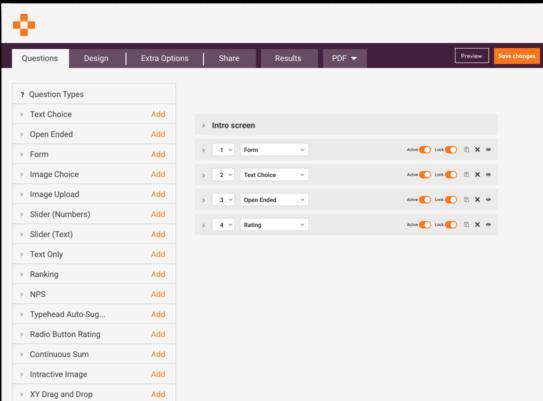button: (127, 49, 204, 69), (14, 50, 70, 69), (205, 49, 256, 69), (69, 51, 127, 68), (263, 51, 320, 68), (494, 48, 541, 65), (457, 49, 490, 64)
dropdown: (241, 194, 309, 207), (242, 144, 309, 157), (324, 50, 367, 69), (241, 219, 308, 231), (243, 169, 309, 181), (214, 144, 236, 157), (213, 194, 236, 206), (214, 169, 236, 181), (213, 219, 235, 231)
icon: (463, 171, 472, 181), (464, 147, 472, 155), (475, 171, 483, 179), (475, 146, 482, 155), (486, 170, 493, 179), (486, 147, 494, 154), (475, 196, 482, 204), (20, 331, 27, 339), (21, 92, 27, 101), (475, 222, 482, 229), (20, 152, 27, 159), (464, 221, 470, 229), (19, 311, 25, 319), (487, 197, 493, 204), (202, 123, 208, 130), (20, 112, 26, 119), (20, 172, 26, 179), (20, 232, 26, 239), (20, 132, 26, 138), (486, 223, 493, 228), (21, 212, 26, 219), (21, 352, 26, 359), (203, 198, 207, 206), (204, 223, 208, 231), (464, 198, 470, 203), (201, 174, 207, 179), (21, 273, 26, 279), (21, 292, 26, 298), (21, 392, 26, 398), (203, 148, 207, 155), (21, 373, 26, 378), (22, 193, 26, 198), (21, 253, 25, 258)
label: (31, 309, 108, 322), (29, 331, 106, 343), (28, 209, 92, 222), (28, 189, 83, 203), (211, 119, 264, 133), (26, 351, 91, 362), (29, 372, 91, 383), (30, 169, 81, 182), (30, 391, 94, 401), (29, 91, 87, 101), (28, 269, 66, 283), (30, 131, 76, 142), (31, 109, 73, 121), (29, 249, 66, 262), (29, 232, 76, 241), (28, 149, 51, 160), (29, 289, 50, 301), (406, 221, 419, 228), (408, 147, 420, 154), (406, 171, 420, 177), (405, 198, 419, 204), (434, 223, 446, 230), (435, 171, 445, 179), (434, 198, 447, 204), (436, 147, 446, 154)
switch: (446, 170, 459, 180), (419, 146, 433, 155), (419, 196, 433, 205), (445, 196, 459, 205), (419, 221, 433, 230), (419, 171, 432, 180), (446, 146, 459, 155), (447, 222, 458, 230)
